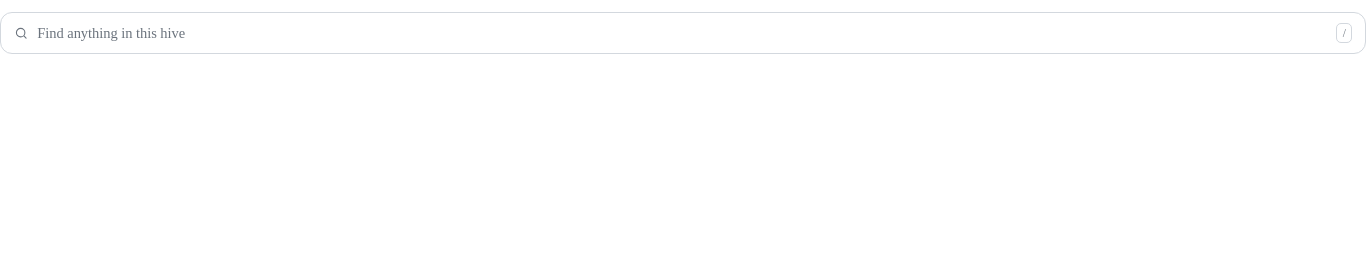
Test: HiveOmni (find only) › opens the page behind a result
Type "monthly" into the dropdown. click: (682, 33)
box: [37,13,1327,53]
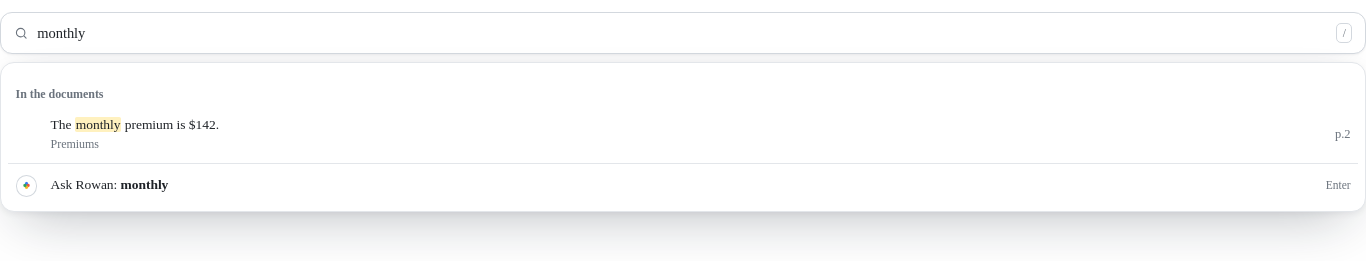
Click the option "The monthly premium is $142. Premiums p.2". click: (98, 125)
box: [8,109,1358,159]
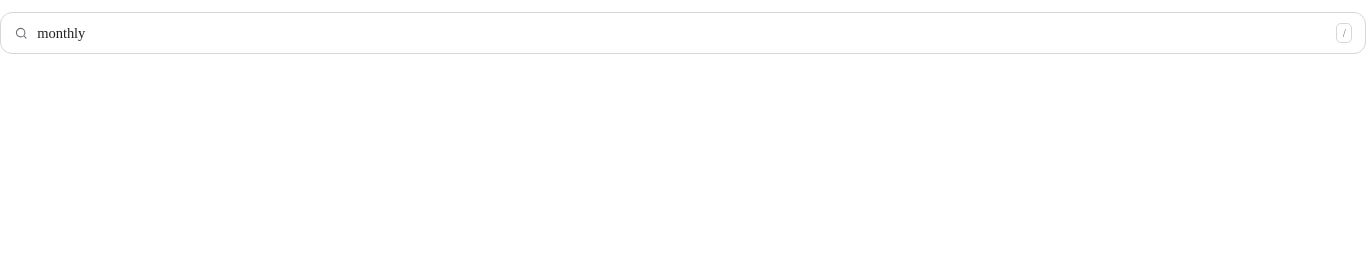
Expected: the element with test id "omni-pop" is gone
